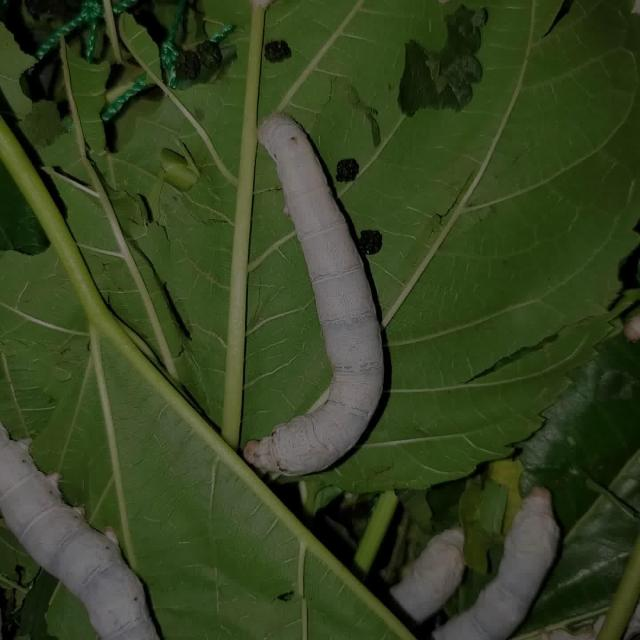Healthy: (234, 109, 403, 493)
